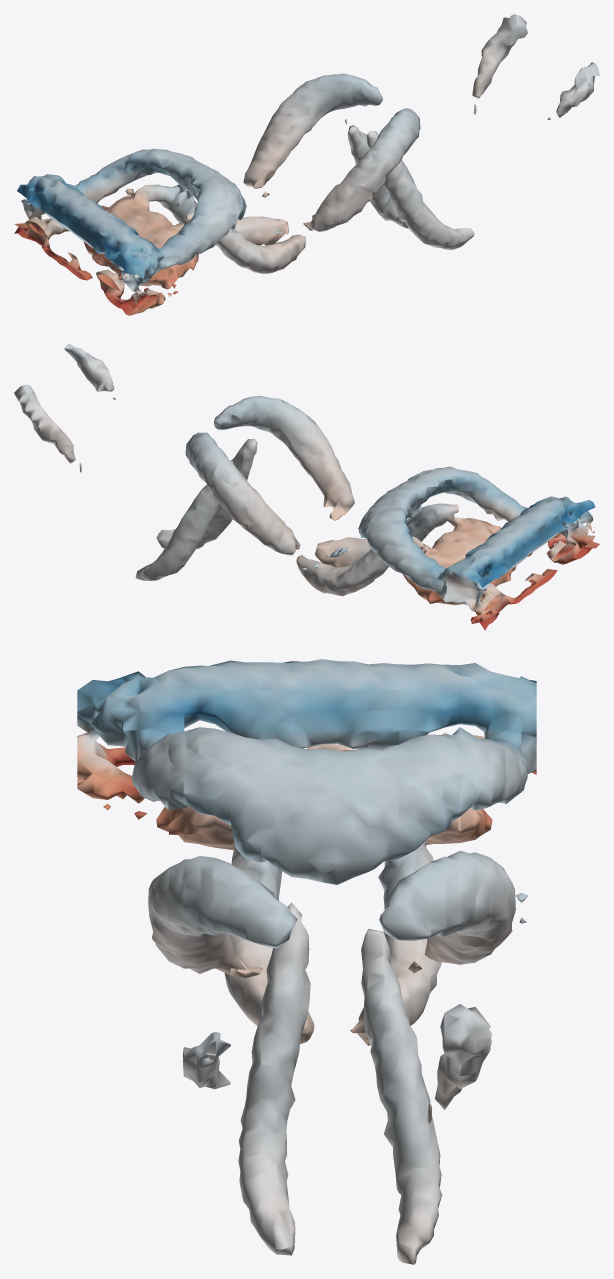
3 renders of one model, top to bottom at view 1: azimuth 30°, elevation 25°; view 2: azimuth 150°, elevation 25°; view 3: azimuth 270°, elevation 25°, orthographic. The views are drawn at different scales.
Bounding box in the file's own units: 6.25 × 2.15 × 2.5.
